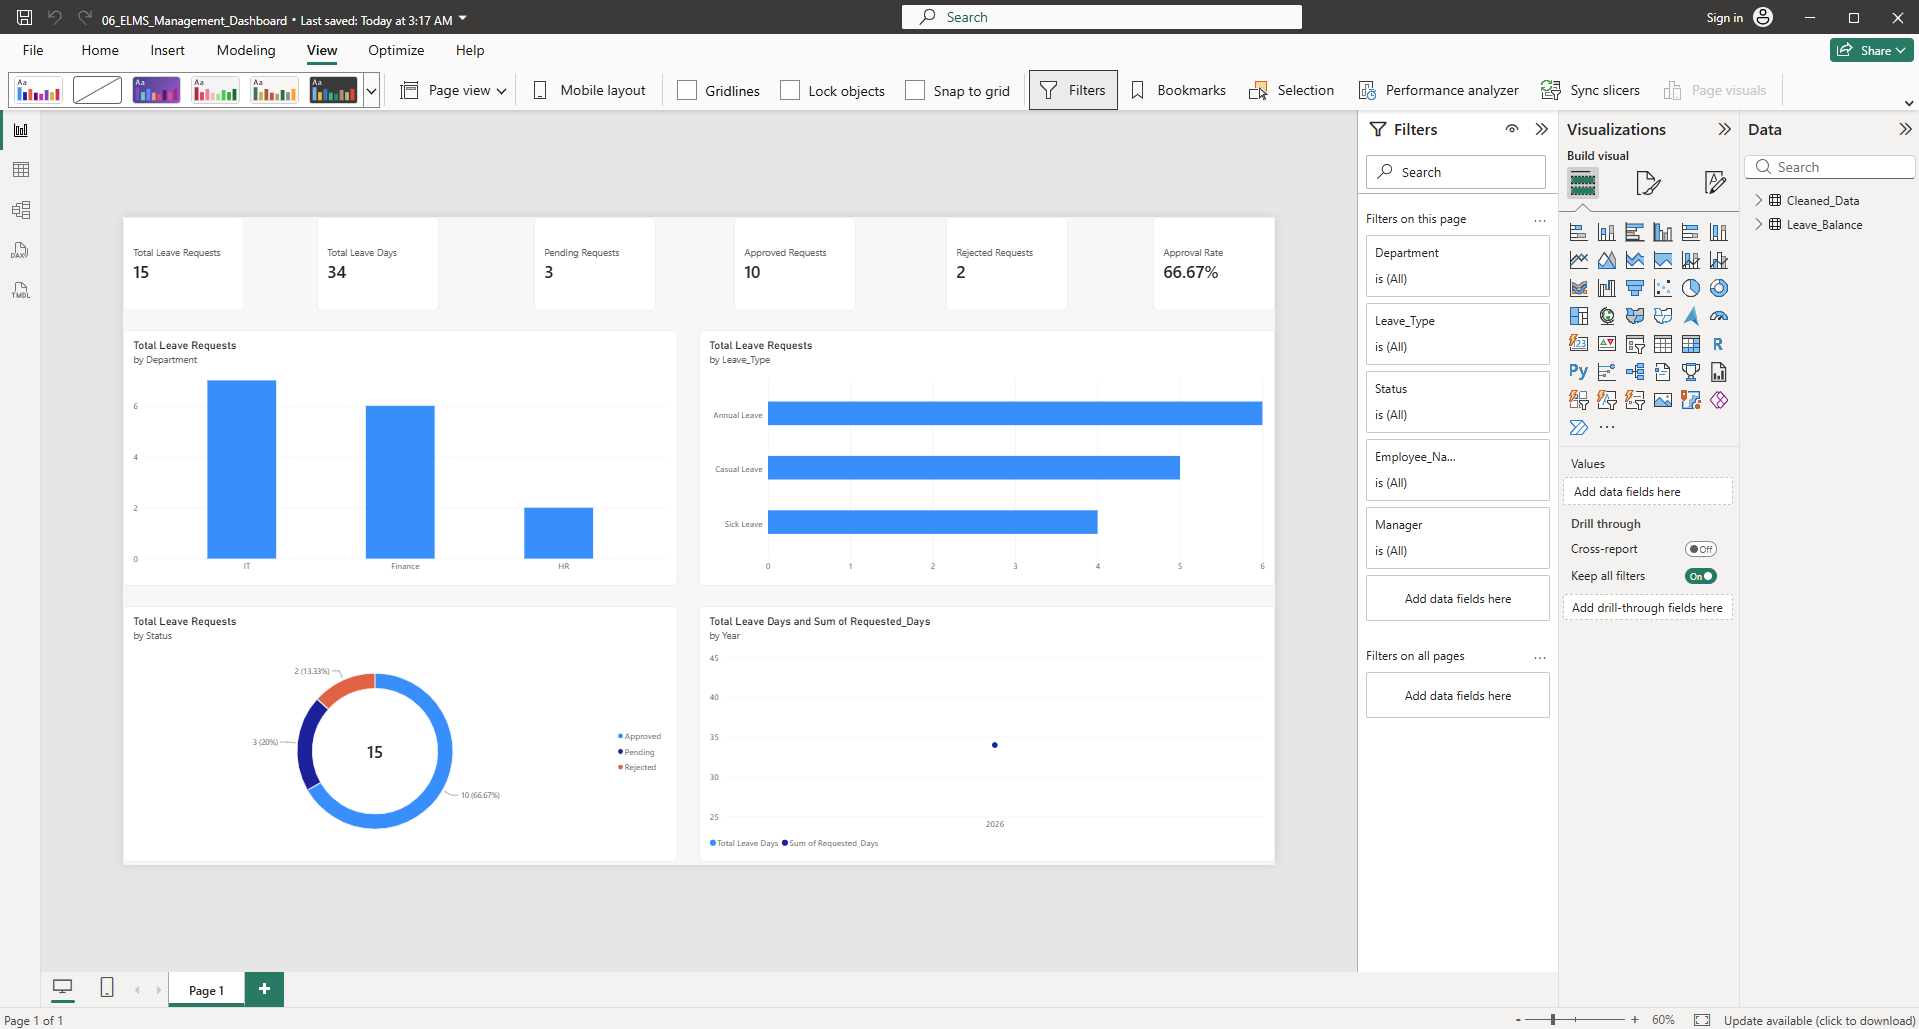

Layout of this report page (visuals, bound fields, positions):
{"tool":"powerbi","page":{"name":"Page 1","canvas":[1920,1080],"ordinal":0},"visuals":[{"type":"cardVisual","fields":{"Data":["Cleaned_Data.Total Leave Requests"]},"box":[0,0,202.8,156.1],"z":0},{"type":"cardVisual","fields":{"Data":["Cleaned_Data.Total Leave Days"]},"box":[323.9,0,203,156],"z":1000},{"type":"cardVisual","fields":{"Data":["Cleaned_Data.Pending Requests"]},"box":[684.3,0,203,156],"z":2000},{"type":"cardVisual","fields":{"Data":["Cleaned_Data.Approved Requests"]},"box":[1018.4,0,203,156],"z":3000},{"type":"cardVisual","fields":{"Data":["Cleaned_Data.Rejected Requests"]},"box":[1371.4,0,203,156],"z":4000},{"type":"cardVisual","fields":{"Data":["Cleaned_Data.Approval Rate"]},"box":[1717.2,0,203,156],"z":5000},{"type":"clusteredColumnChart","fields":{"Category":["Cleaned_Data.Department"],"Y":["Cleaned_Data.Total Leave Requests"]},"box":[0,188.2,923.5,426],"z":6000},{"type":"clusteredBarChart","fields":{"Category":["Cleaned_Data.Leave_Type"],"Y":["Cleaned_Data.Total Leave Requests"]},"box":[960,188.2,960,426],"z":7000},{"type":"donutChart","fields":{"Category":["Cleaned_Data.Status"],"Y":["Cleaned_Data.Total Leave Requests"]},"box":[0,648,924,426],"z":8000},{"type":"lineChart","fields":{"Category":["Cleaned_Data.Submitted_Date.Variation.Date Hierarchy.Year","Cleaned_Data.Submitted_Date.Variation.Date Hierarchy.Quarter","Cleaned_Data.Submitted_Date.Variation.Date Hierarchy.Month","Cleaned_Data.Submitted_Date.Variation.Date Hierarchy.Day"],"Y":["Cleaned_Data.Total Leave Days","Sum(Cleaned_Data.Requested_Days)"]},"box":[960,648,960,426],"z":9000}]}

Visuals, with their boxes on the page's 1920x1080 design canvas (x1, y1, x2, y2). These are canvas units, not pixel positions in the 1919x1029 screenshot, which may show the page scaled, cropped or inside an application window:
cardVisual - Cleaned_Data.Total Leave Requests: {"x1": 0, "y1": 0, "x2": 203, "y2": 156}
cardVisual - Cleaned_Data.Total Leave Days: {"x1": 324, "y1": 0, "x2": 527, "y2": 156}
cardVisual - Cleaned_Data.Pending Requests: {"x1": 684, "y1": 0, "x2": 887, "y2": 156}
cardVisual - Cleaned_Data.Approved Requests: {"x1": 1018, "y1": 0, "x2": 1221, "y2": 156}
cardVisual - Cleaned_Data.Rejected Requests: {"x1": 1371, "y1": 0, "x2": 1574, "y2": 156}
cardVisual - Cleaned_Data.Approval Rate: {"x1": 1717, "y1": 0, "x2": 1920, "y2": 156}
clusteredColumnChart - Cleaned_Data.Department x Cleaned_Data.Total Leave Requests: {"x1": 0, "y1": 188, "x2": 924, "y2": 614}
clusteredBarChart - Cleaned_Data.Leave_Type x Cleaned_Data.Total Leave Requests: {"x1": 960, "y1": 188, "x2": 1920, "y2": 614}
donutChart - Cleaned_Data.Status x Cleaned_Data.Total Leave Requests: {"x1": 0, "y1": 648, "x2": 924, "y2": 1074}
lineChart - Cleaned_Data.Submitted_Date.Variation.Date Hierarchy.Year x Cleaned_Data.Submitted_Date.Variation.Date Hierarchy.Quarter: {"x1": 960, "y1": 648, "x2": 1920, "y2": 1074}
